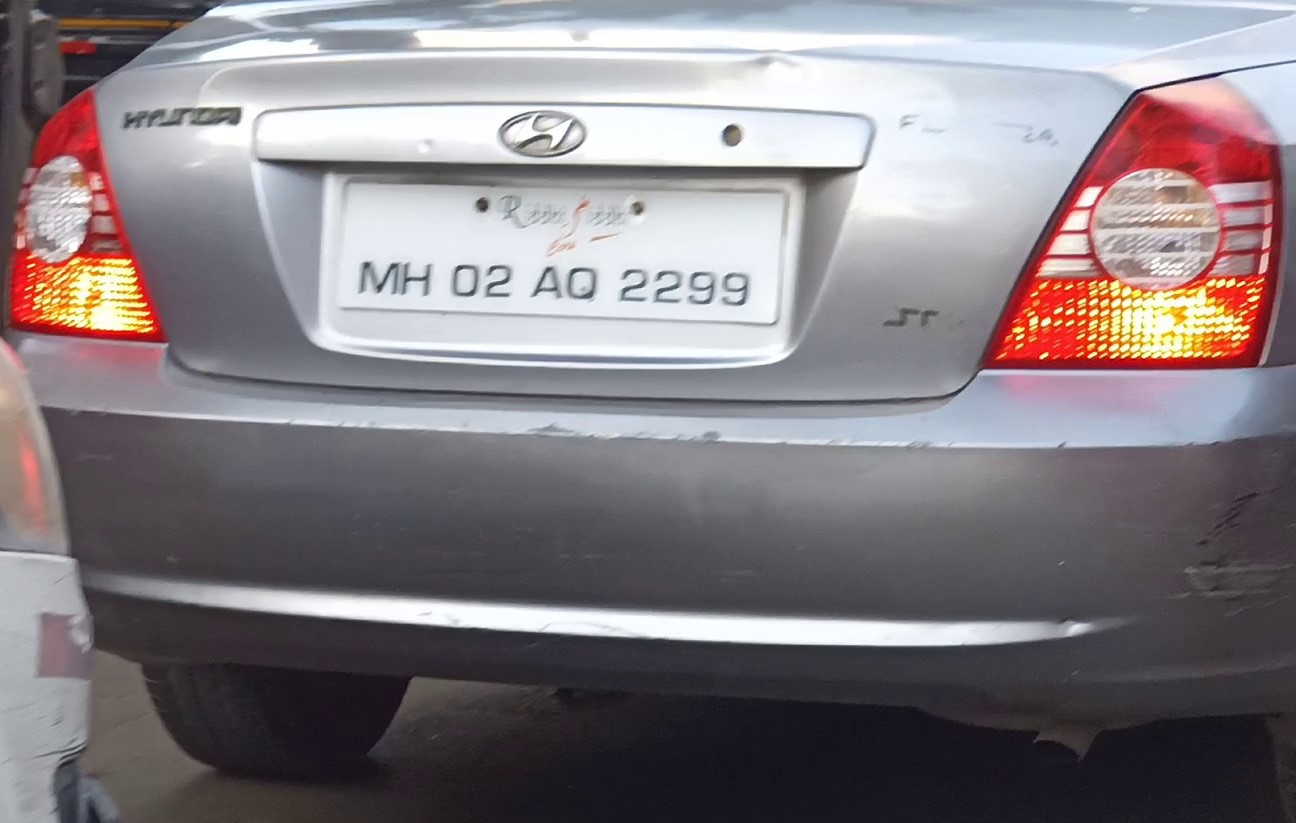MH02AQ2299: (336, 179, 789, 322)
